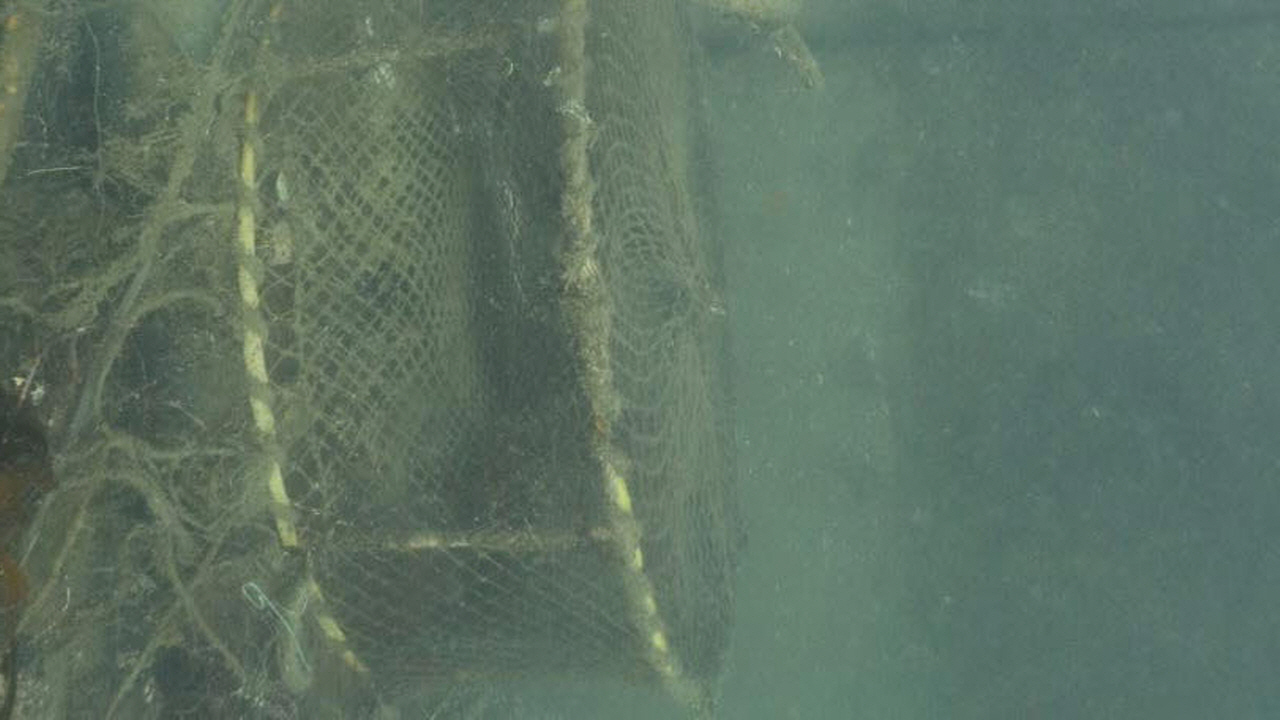circular fish trap: (236, 0, 745, 709)
